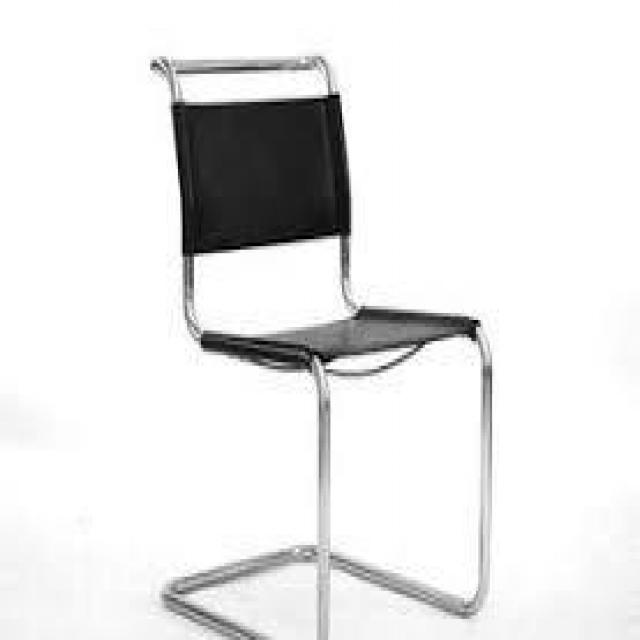chair: (144, 30, 508, 631)
